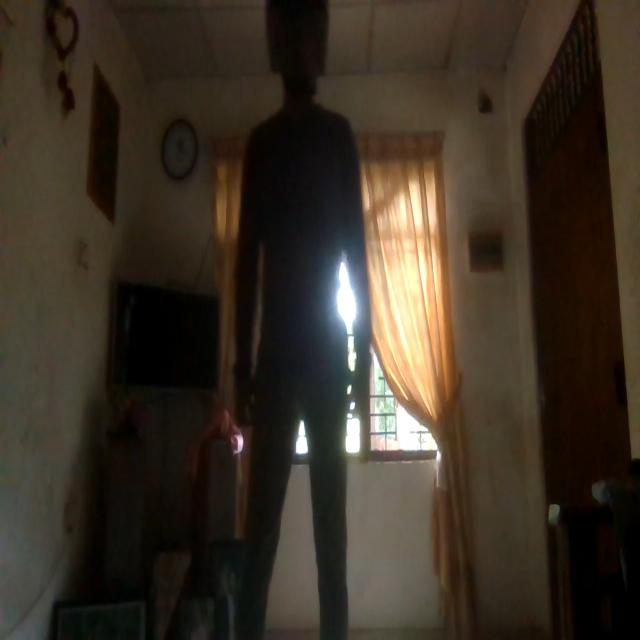Helmet_Wearer: (261, 0, 332, 117)
Person: (242, 8, 370, 640)
